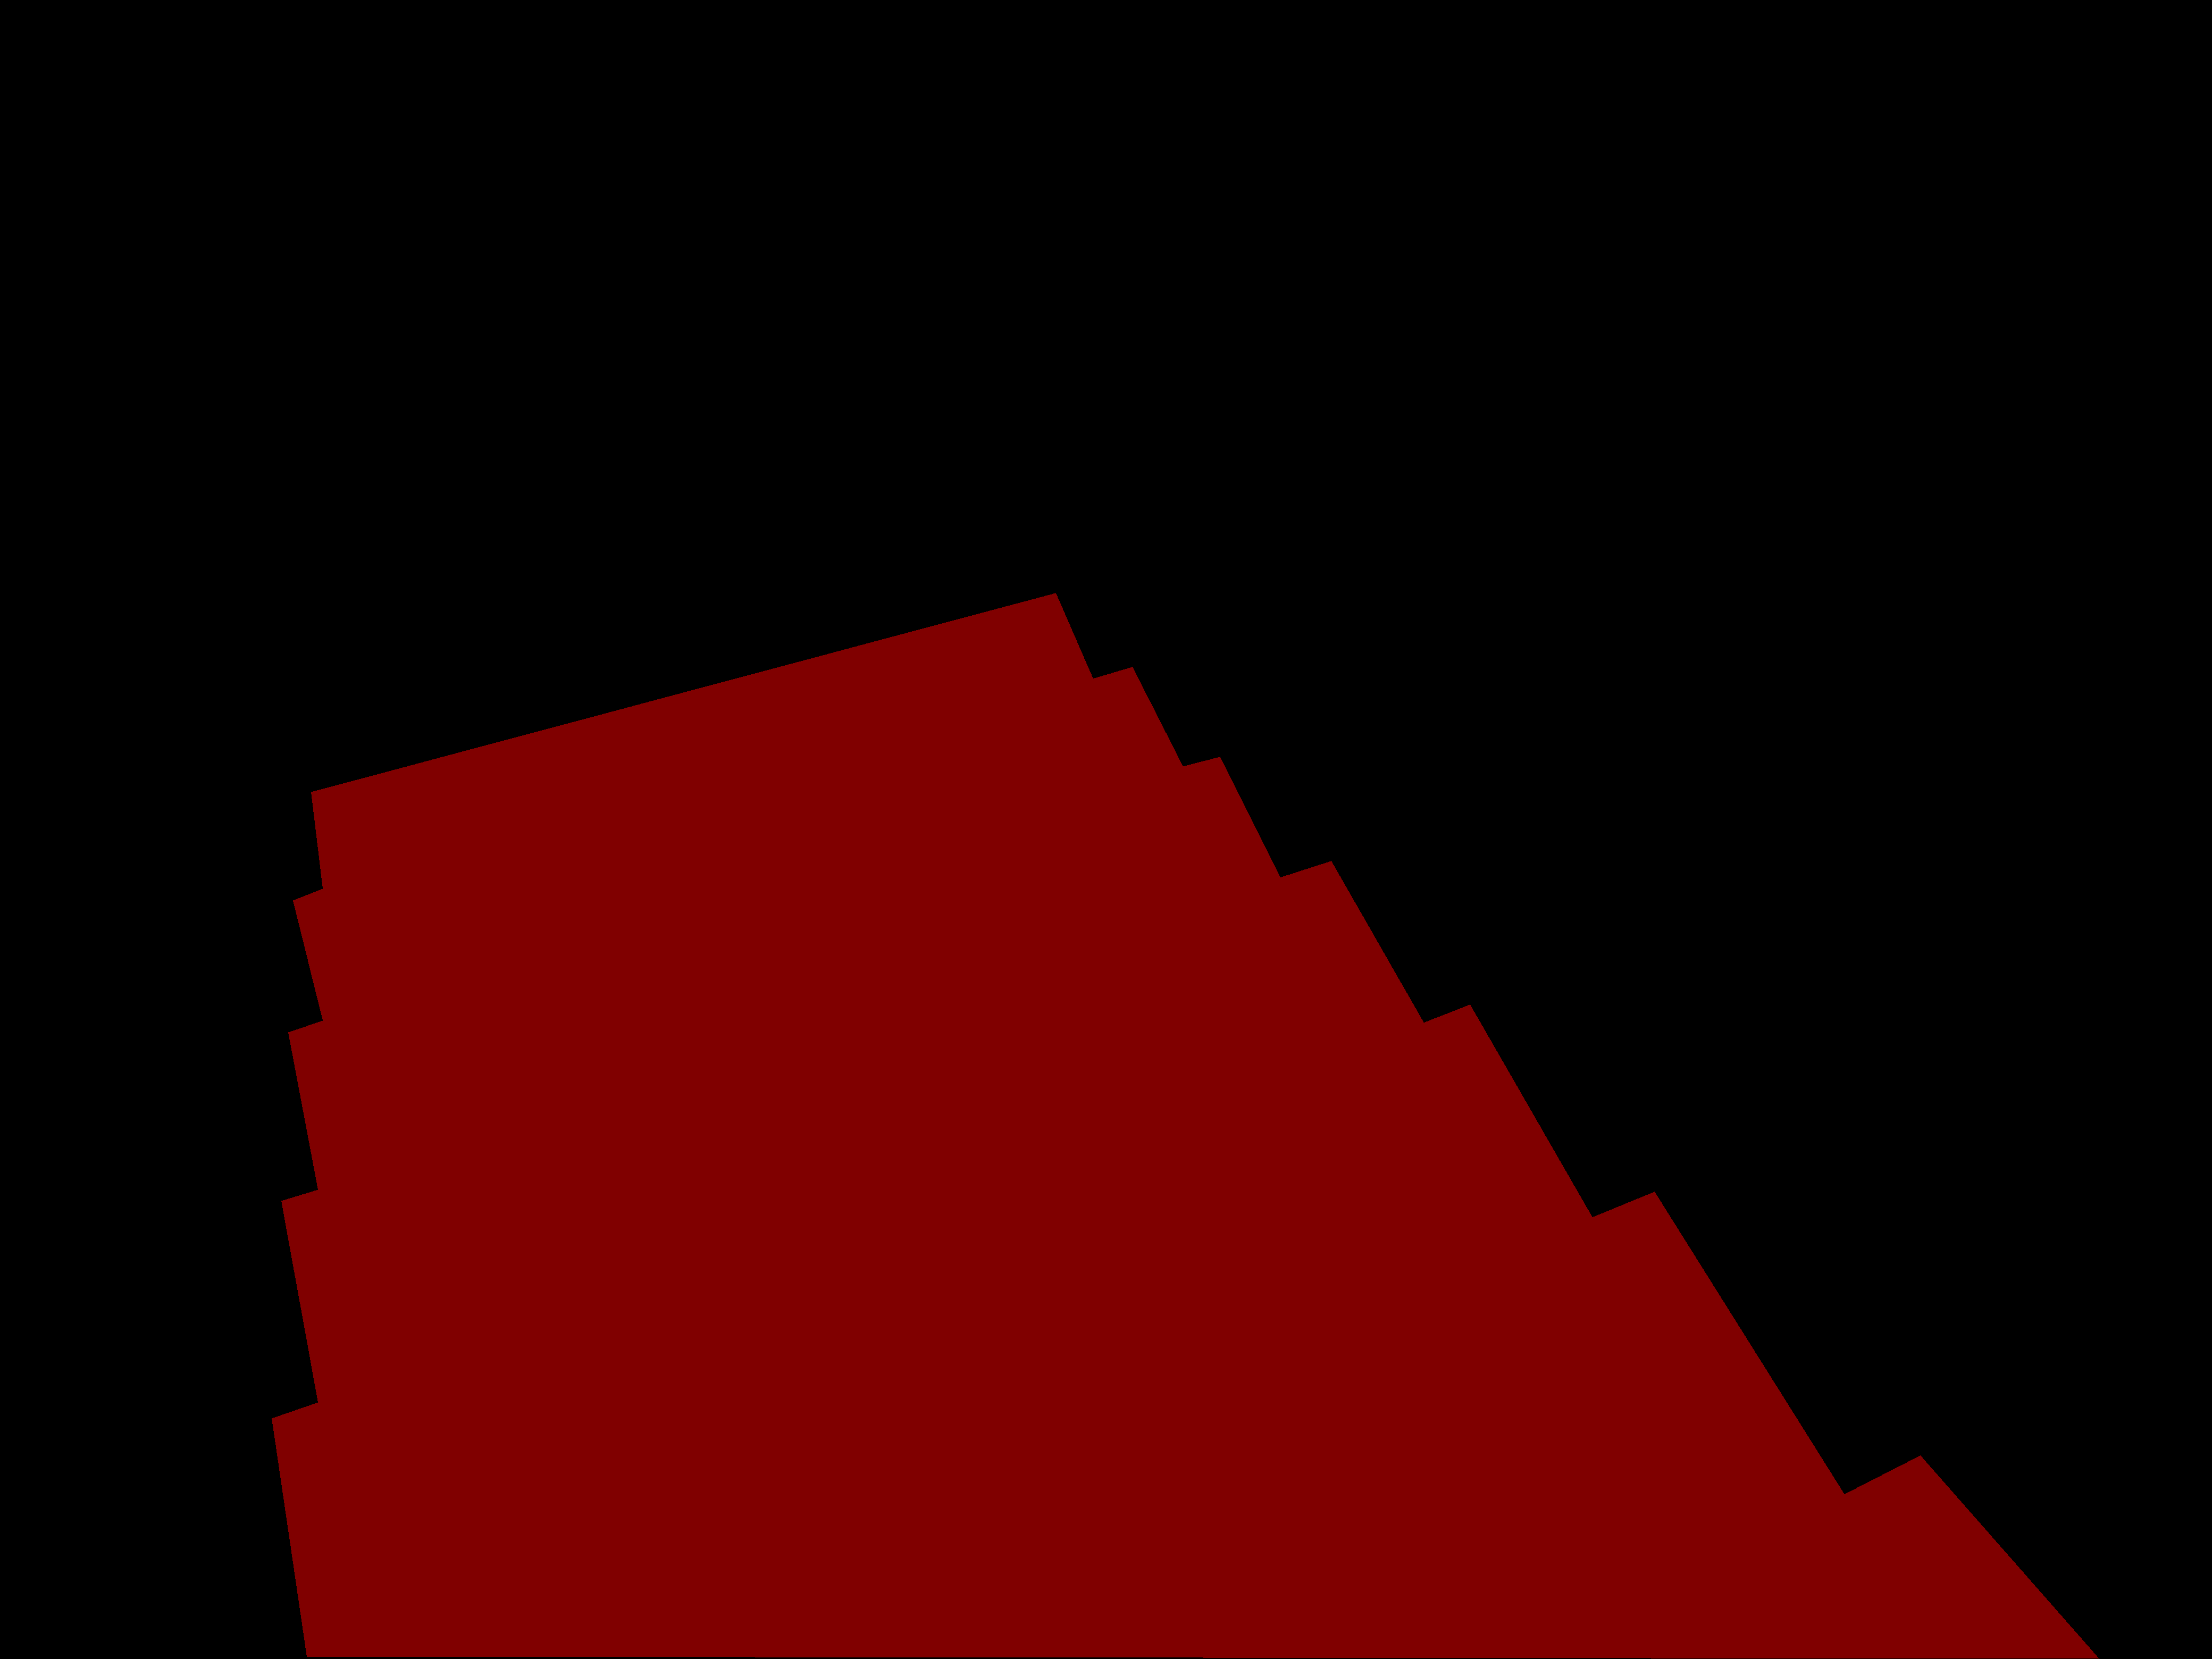stair: (272, 592, 2099, 1659)
